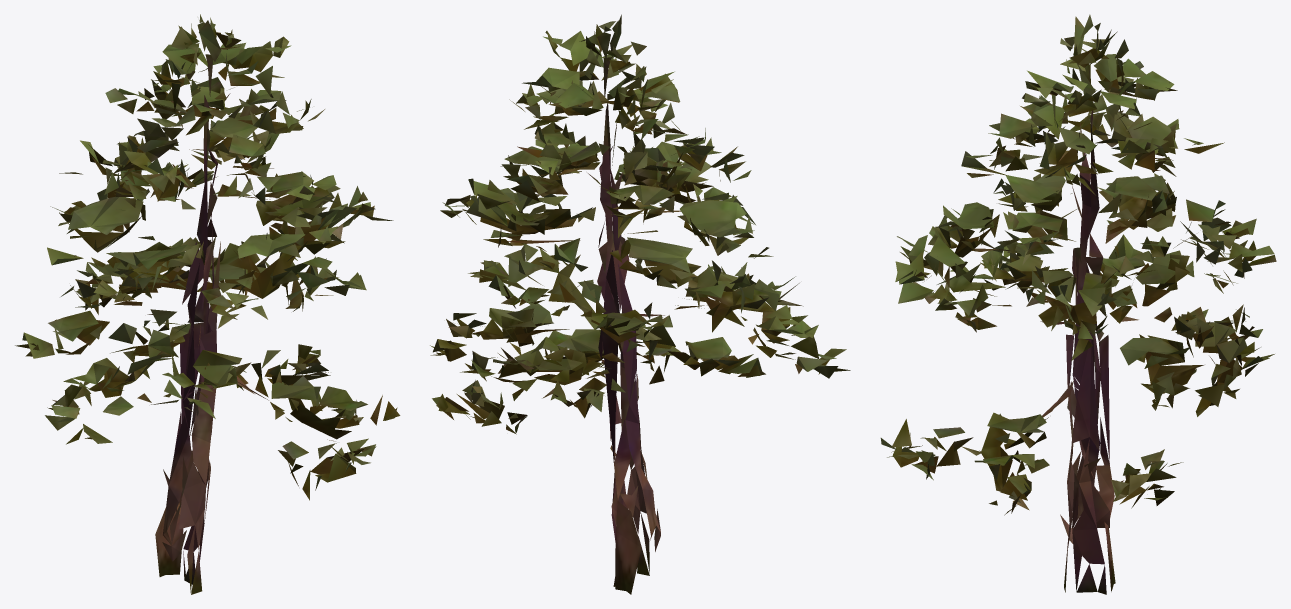
The model's file is tree_pine.glb.
The picture shows the model from 3 angles, left to right: view 1: azimuth 30°, elevation 25°; view 2: azimuth 150°, elevation 25°; view 3: azimuth 270°, elevation 25°; orthographic projection. The views are drawn at different scales.
Parts seen in each view (by area): view 1: geometry_0; view 2: geometry_0; view 3: geometry_0.
Part boxes in pixels (left/top/right/bottom): geometry_0: left=15, top=14, right=400, bottom=594; geometry_0: left=430, top=14, right=850, bottom=594; geometry_0: left=880, top=14, right=1276, bottom=594.
Size of the model in its own units: 1.36 by 1.95 by 1.2.
1 material, 1 textured.
